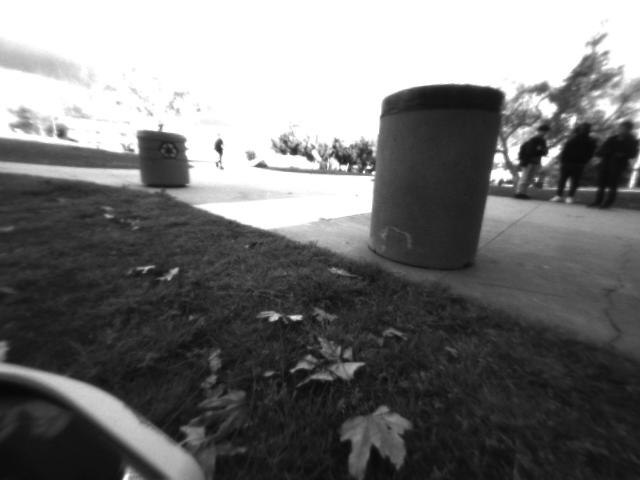trashcan: (362, 73, 506, 285), (128, 123, 197, 198)
